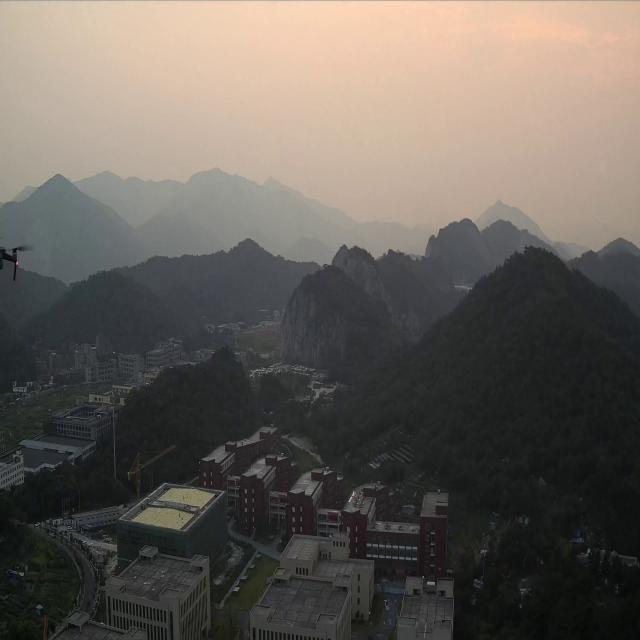UAV: (0, 235, 36, 283)
